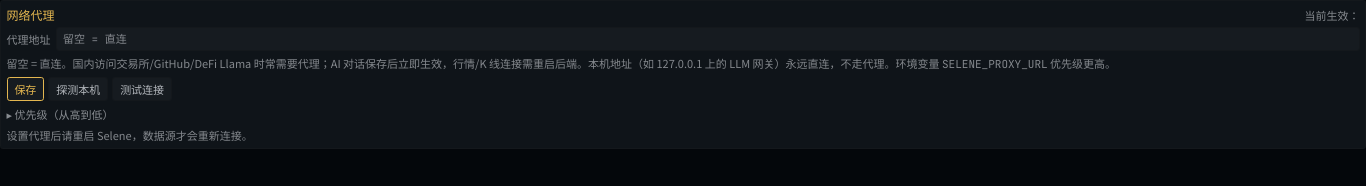
NetworkSettingsPanel › fills the input with a detected local proxy
This screenshot has width=1366, height=186.
Click the button "探测本机": {"x": 78, "y": 89} top-left (48, 77), bottom-right (108, 101)
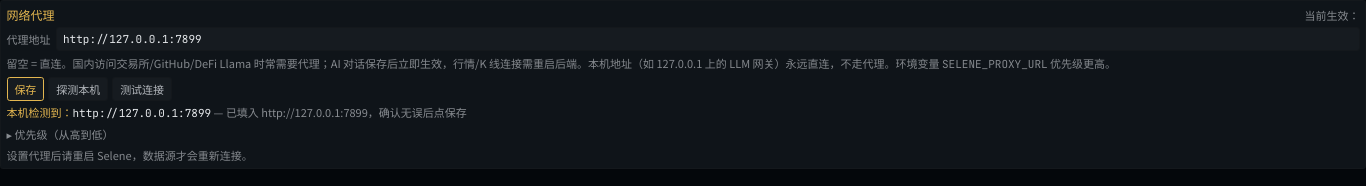
Expected: the field labelled "代理地址" holds "http://127.0.0.1:7899", top-left (56, 27), bottom-right (1360, 51)
Expected: the text "本机检测到：" is shown, top-left (6, 104), bottom-right (72, 120)
